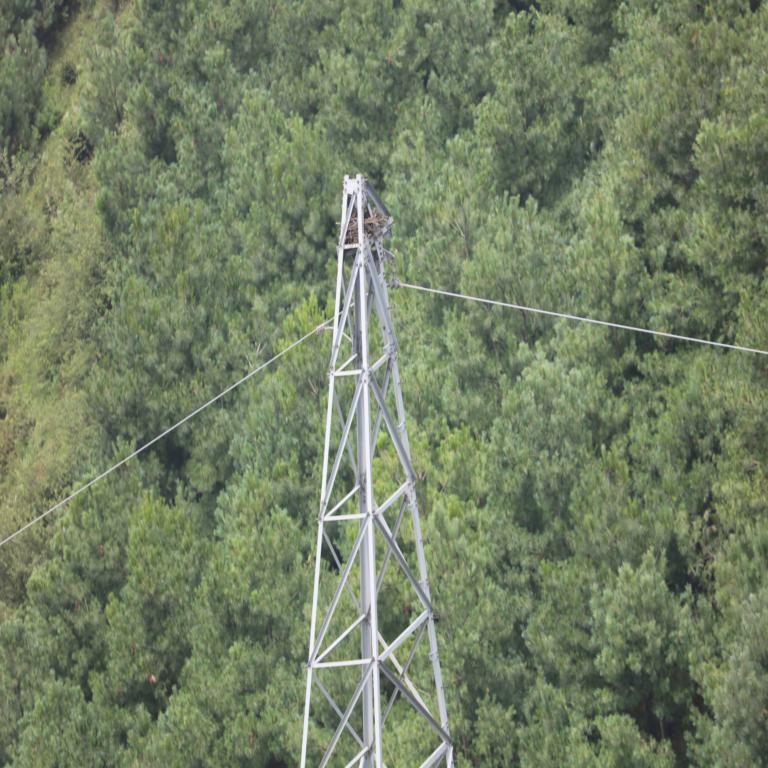nest: (344, 212, 383, 254)
